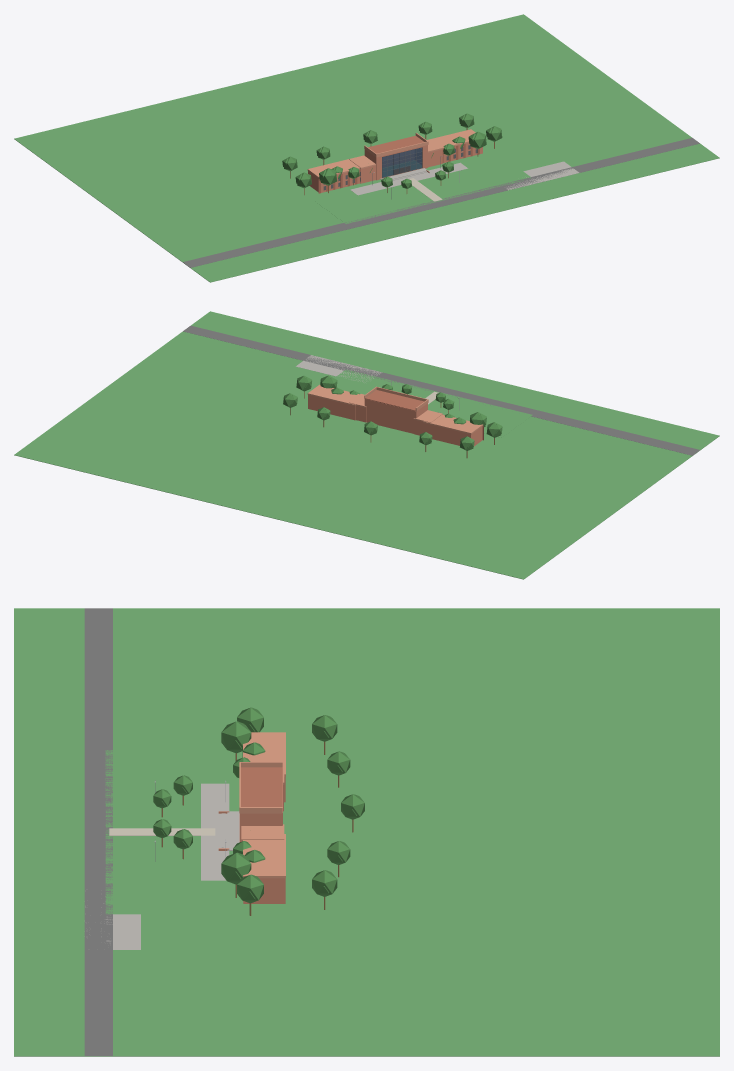
File: lecture_hall.glb
3 renders of one model, top to bottom at view 1: azimuth 30°, elevation 25°; view 2: azimuth 150°, elevation 25°; view 3: azimuth 270°, elevation 25°, orthographic. The views are drawn at different scales.
Visible parts, largest first — view 1: ground_grass, front_lawn, road_front, parking_R, curtain_backing, apron_plaza, central_roof; view 2: ground_grass, road_front, front_lawn, central_back, parking_R, wing_L, wing_R, central_roof, wing_L_cap, wing_R_cap; view 3: ground_grass, front_lawn, road_front, apron_plaza, central_roof, wing_R_cap, wing_L_cap, parking_R.
Part boxes in pixels (box(x1,y1,x2,y2)): ground_grass: box(14, 14, 719, 282); front_lawn: box(315, 155, 531, 223); road_front: box(183, 138, 699, 267); parking_R: box(506, 161, 579, 190); curtain_backing: box(382, 148, 421, 177); apron_plaza: box(350, 162, 467, 195); central_roof: box(368, 135, 423, 153); ground_grass: box(14, 311, 719, 579); road_front: box(183, 325, 699, 455); front_lawn: box(334, 369, 532, 437); central_back: box(365, 399, 415, 433); parking_R: box(296, 355, 382, 382); wing_L: box(423, 423, 482, 446); wing_R: box(308, 395, 355, 420); central_roof: box(365, 390, 424, 410); wing_L_cap: box(423, 414, 483, 434); wing_R_cap: box(307, 384, 359, 406); ground_grass: box(14, 608, 719, 1056); front_lawn: box(105, 750, 218, 914); road_front: box(84, 608, 112, 1055); apron_plaza: box(201, 783, 229, 880); central_roof: box(241, 767, 282, 806); wing_R_cap: box(243, 834, 285, 878); wing_L_cap: box(243, 732, 285, 776); parking_R: box(85, 903, 140, 949).
Size of the model in its own units: 300 by 15 by 200.
